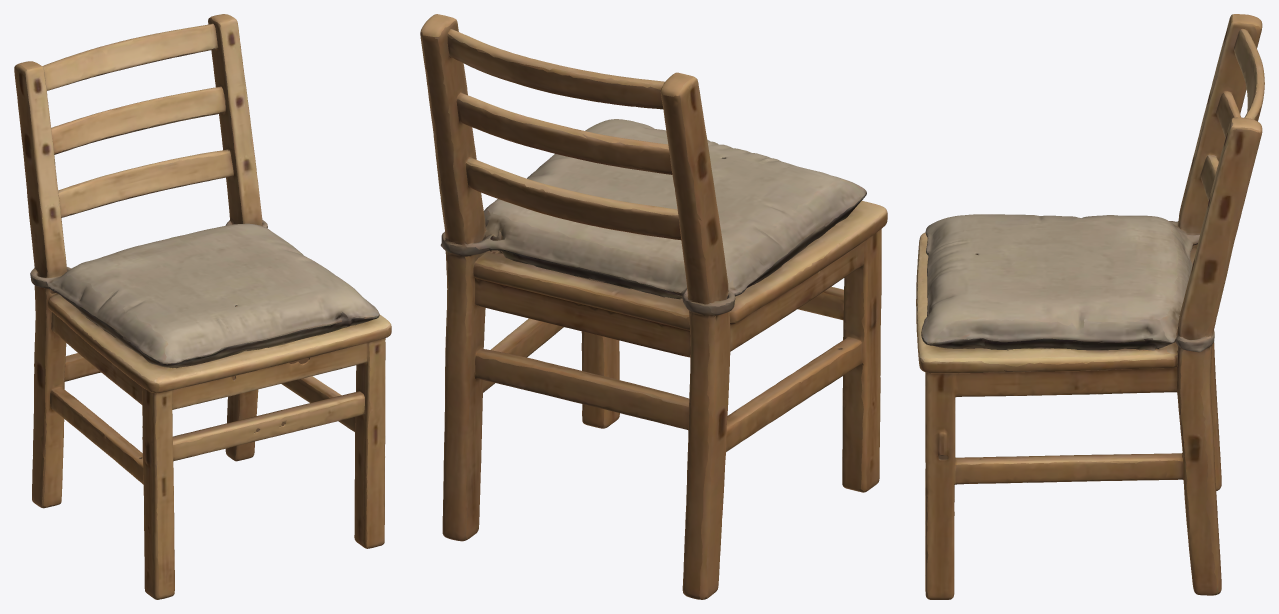
The picture shows the model from 3 angles, left to right: view 1: azimuth 30°, elevation 25°; view 2: azimuth 150°, elevation 25°; view 3: azimuth 270°, elevation 25°; orthographic projection. The views are drawn at different scales.
Parts seen in each view (by area): view 1: geometry_0; view 2: geometry_0; view 3: geometry_0.
Boxes of the visible parts, x1,y1,x2,y2 form: geometry_0: (14, 14, 391, 599); geometry_0: (420, 14, 887, 599); geometry_0: (916, 14, 1264, 599).
Size of the model in its own units: 0.5058 by 0.85 by 0.5709.
1 material, 1 textured.
